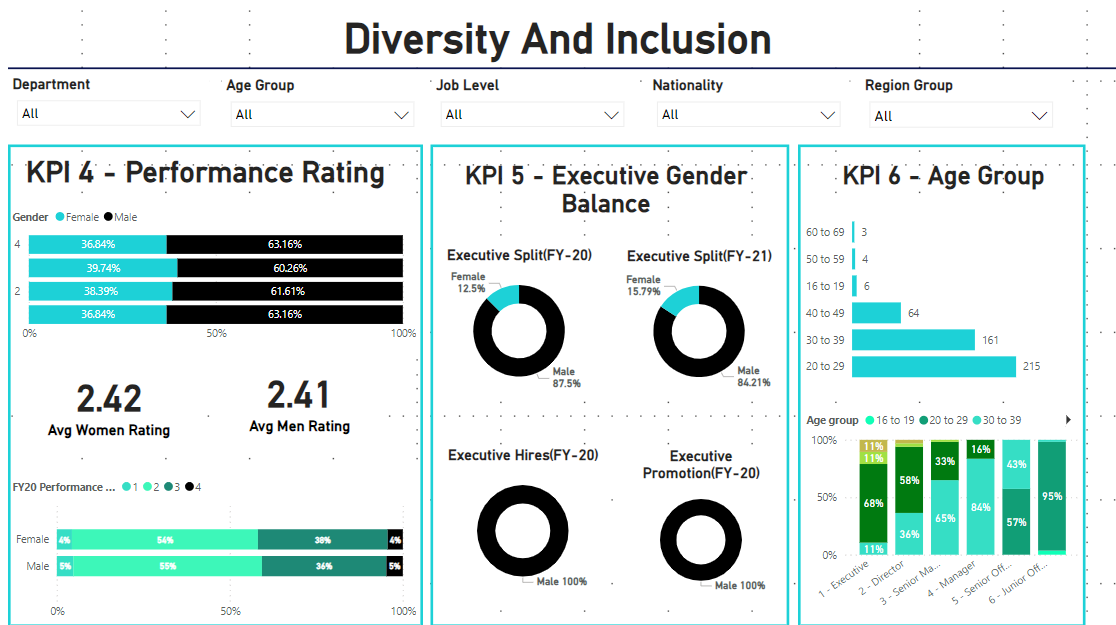

Layout of this report page (visuals, bound fields, positions):
{"tool":"powerbi","page":{"name":"Page 3","canvas":[1280,720],"ordinal":2},"visuals":[{"type":"textbox","box":[311.4,14.8,657.2,66.5],"z":0},{"type":"shape","box":[11.6,0,1268.4,162.9],"z":1000},{"type":"hundredPercentStackedBarChart","fields":{"Y":["CountNonNull(Pharma Group AG.Employee ID)"],"Series":["Pharma Group AG.Gender"],"Category":["Pharma Group AG.FY20 Performance Rating"]},"box":[11.4,231.4,471.4,171.4],"z":6000},{"type":"slicer","title":"Region Group","fields":{"Values":["Pharma Group AG.Region group: nationality 1"]},"box":[985.7,90,230,78.6],"z":7000},{"type":"hundredPercentStackedBarChart","fields":{"Y":["CountNonNull(Pharma Group AG.Employee ID)"],"Series":["Pharma Group AG.FY20 Performance Rating"],"Category":["Pharma Group AG.Gender"]},"box":[11.4,540,471.4,180],"z":8000},{"type":"card","fields":{"Values":["Avg(Pharma Group AG.FY20 Performance Rating)"]},"box":[21.4,407.1,211.4,112.9],"z":9000},{"type":"card","fields":{"Values":["Avg(Pharma Group AG.FY20 Performance Rating)"]},"box":[247.1,402.9,195.7,112.9],"z":10000},{"type":"donutChart","title":"Executive Split(FY-20)","fields":{"Category":["Pharma Group AG.Gender"],"Y":["CountNonNull(Pharma Group AG.Employee ID)"]},"box":[495.7,284.3,200,175.7],"z":11000},{"type":"donutChart","title":"Executive Split(FY-21)","fields":{"Category":["Pharma Group AG.Gender"],"Y":["CountNonNull(Pharma Group AG.Employee ID)"]},"box":[700,285.7,202.9,174.3],"z":12000},{"type":"donutChart","title":"Executive Hires(FY-20)","fields":{"Category":["Pharma Group AG.Gender"],"Y":["CountNonNull(Pharma Group AG.Employee ID)"]},"box":[500,512.9,200,175.7],"z":13000},{"type":"donutChart","title":"Executive Promotion(FY-20)","fields":{"Category":["Pharma Group AG.Gender"],"Y":["CountNonNull(Pharma Group AG.Employee ID)"]},"box":[702.9,514.3,201.4,174.3],"z":14000},{"type":"barChart","fields":{"Y":["CountNonNull(Pharma Group AG.Employee ID)"],"Category":["Pharma Group AG.Age group"]},"box":[914.3,231.4,328.6,221.4],"z":15000},{"type":"hundredPercentStackedColumnChart","fields":{"Series":["Pharma Group AG.Age group"],"Y":["CountNonNull(Pharma Group AG.Employee ID)"],"Category":["Pharma Group AG.Job Level after FY21 promotions"]},"box":[918.6,464.3,324.3,244.3],"z":16000},{"type":"slicer","title":"Department","fields":{"Values":["Pharma Group AG.Last Department in FY20"]},"box":[11.4,88.6,230,78.6],"z":16001},{"type":"slicer","title":"Job Level","fields":{"Values":["Pharma Group AG.Job Level after FY20 promotions"]},"box":[495.7,90,230,78.6],"z":16002},{"type":"slicer","title":"Age Group","fields":{"Values":["Pharma Group AG.Age group"]},"box":[255,90,230,78.6],"z":16003},{"type":"slicer","title":"Nationality","fields":{"Values":["Pharma Group AG.Nationality 1"]},"box":[742.1,90,230,78.6],"z":16004},{"type":"textbox","box":[21.4,175.7,431.4,55.7],"z":16005},{"type":"textbox","box":[495.7,181.4,398.6,84.3],"z":16006},{"type":"textbox","box":[918.6,181.4,324.3,52.9],"z":16007},{"type":"shape","box":[11.4,168.6,474.3,551.4],"z":16008},{"type":"shape","box":[494.3,168.6,410,551.4],"z":16009},{"type":"shape","box":[914.3,168.6,328.6,551.4],"z":16010}]}

Visuals, with their boxes in screenshot pixels (x1, y1, x2, y2), scaled from the page's 1280x720 canvas onto the 1116x625 screenshot:
textbox: {"x1": 272, "y1": 13, "x2": 844, "y2": 71}
shape: {"x1": 10, "y1": 0, "x2": 1115, "y2": 141}
hundredPercentStackedBarChart - CountNonNull(Pharma Group AG.Employee ID) x Pharma Group AG.Gender: {"x1": 10, "y1": 201, "x2": 421, "y2": 350}
"Region Group" slicer: {"x1": 859, "y1": 78, "x2": 1060, "y2": 146}
hundredPercentStackedBarChart - CountNonNull(Pharma Group AG.Employee ID) x Pharma Group AG.FY20 Performance Rating: {"x1": 10, "y1": 469, "x2": 421, "y2": 624}
card - Avg(Pharma Group AG.FY20 Performance Rating): {"x1": 19, "y1": 353, "x2": 203, "y2": 451}
card - Avg(Pharma Group AG.FY20 Performance Rating): {"x1": 215, "y1": 350, "x2": 386, "y2": 448}
"Executive Split(FY-20)" donutChart: {"x1": 432, "y1": 247, "x2": 607, "y2": 399}
"Executive Split(FY-21)" donutChart: {"x1": 610, "y1": 248, "x2": 787, "y2": 399}
"Executive Hires(FY-20)" donutChart: {"x1": 436, "y1": 445, "x2": 610, "y2": 598}
"Executive Promotion(FY-20)" donutChart: {"x1": 613, "y1": 446, "x2": 788, "y2": 598}
barChart - CountNonNull(Pharma Group AG.Employee ID) x Pharma Group AG.Age group: {"x1": 797, "y1": 201, "x2": 1084, "y2": 393}
hundredPercentStackedColumnChart - Pharma Group AG.Age group x CountNonNull(Pharma Group AG.Employee ID): {"x1": 801, "y1": 403, "x2": 1084, "y2": 615}
"Department" slicer: {"x1": 10, "y1": 77, "x2": 210, "y2": 145}
"Job Level" slicer: {"x1": 432, "y1": 78, "x2": 633, "y2": 146}
"Age Group" slicer: {"x1": 222, "y1": 78, "x2": 423, "y2": 146}
"Nationality" slicer: {"x1": 647, "y1": 78, "x2": 848, "y2": 146}
textbox: {"x1": 19, "y1": 153, "x2": 395, "y2": 201}
textbox: {"x1": 432, "y1": 157, "x2": 780, "y2": 231}
textbox: {"x1": 801, "y1": 157, "x2": 1084, "y2": 203}
shape: {"x1": 10, "y1": 146, "x2": 423, "y2": 624}
shape: {"x1": 431, "y1": 146, "x2": 788, "y2": 624}
shape: {"x1": 797, "y1": 146, "x2": 1084, "y2": 624}
